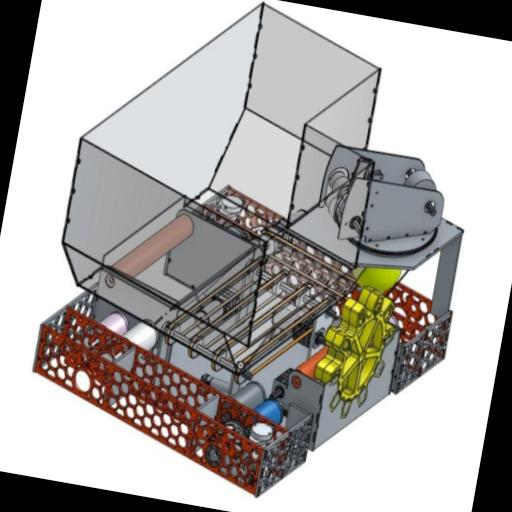robot: (15, 0, 498, 512)
